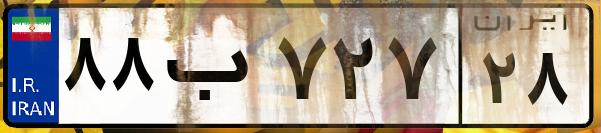2: (330, 28, 385, 110), (475, 38, 525, 113)
7: (270, 28, 330, 110), (385, 28, 445, 110)
8: (57, 26, 110, 100), (525, 38, 570, 115), (110, 28, 158, 98)
ب: (158, 20, 270, 120)
